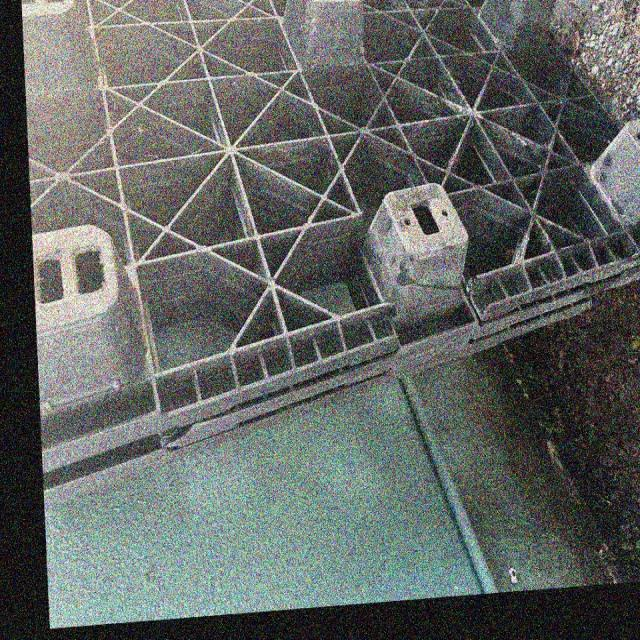non-igps: (19, 0, 639, 526)
